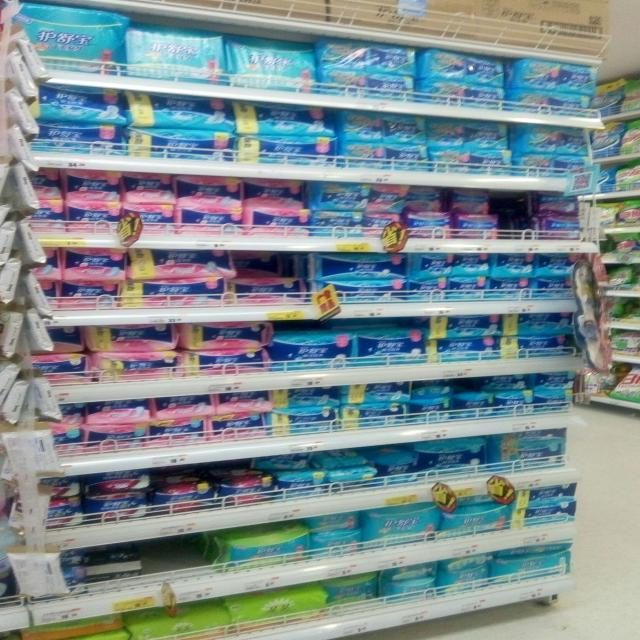void: (151, 542, 217, 572), (504, 192, 530, 238)
